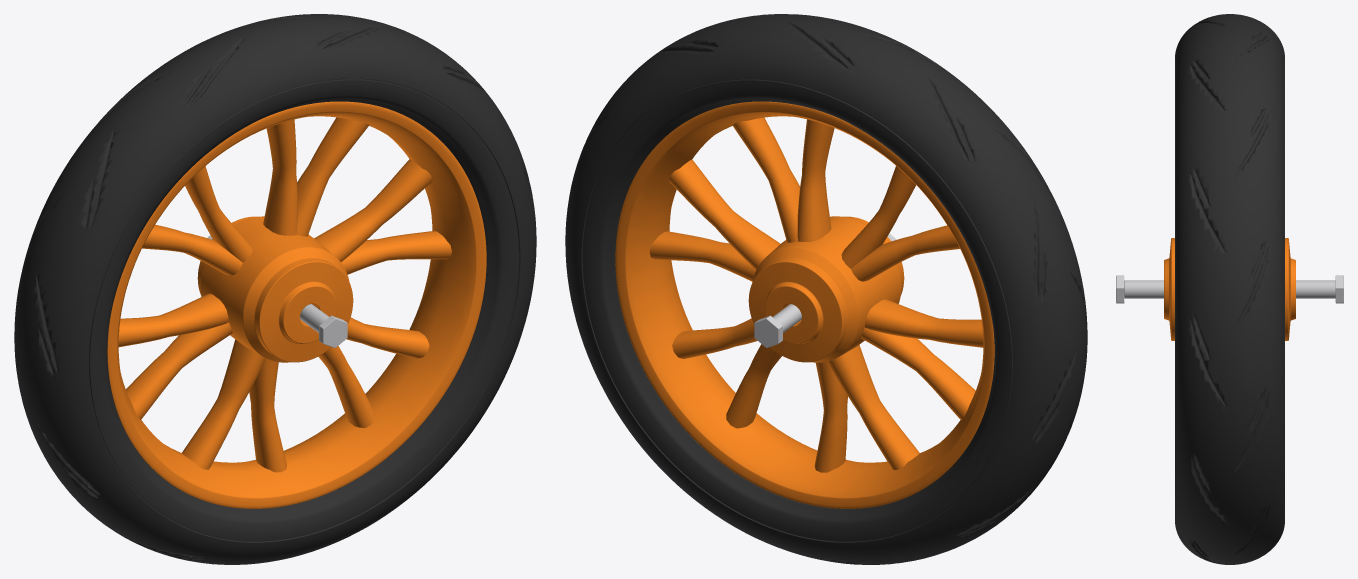
The model's file is bike_superbike__front_wheel.glb.
3 renders of one model, left to right at view 1: azimuth 30°, elevation 25°; view 2: azimuth 150°, elevation 25°; view 3: azimuth 270°, elevation 25°, orthographic. The views are drawn at different scales.
Visible parts, largest first — view 1: wheels__front_wheel__tyre, wheels__front_wheel__rim, wheels__front_wheel__cast_spokes, wheels__front_wheel__hub, wheels__front_wheel__axle; view 2: wheels__front_wheel__tyre, wheels__front_wheel__rim, wheels__front_wheel__cast_spokes, wheels__front_wheel__hub, wheels__front_wheel__axle; view 3: wheels__front_wheel__tyre, wheels__front_wheel__axle, wheels__front_wheel__hub.
Part boxes in pixels (x1,y1,x2,y2): wheels__front_wheel__tyre: (14,14,536,564); wheels__front_wheel__rim: (107,101,486,508); wheels__front_wheel__cast_spokes: (118,117,451,472); wheels__front_wheel__hub: (197,216,353,362); wheels__front_wheel__axle: (207,235,347,347); wheels__front_wheel__tyre: (565,14,1087,564); wheels__front_wheel__rim: (615,101,994,508); wheels__front_wheel__cast_spokes: (649,117,983,472); wheels__front_wheel__hub: (748,216,904,362); wheels__front_wheel__axle: (754,233,896,347); wheels__front_wheel__tyre: (1175,14,1284,564); wheels__front_wheel__axle: (1116,275,1343,303); wheels__front_wheel__hub: (1164,238,1295,340).
Bounding box in the file's own units: 60 × 60 × 24.8.
